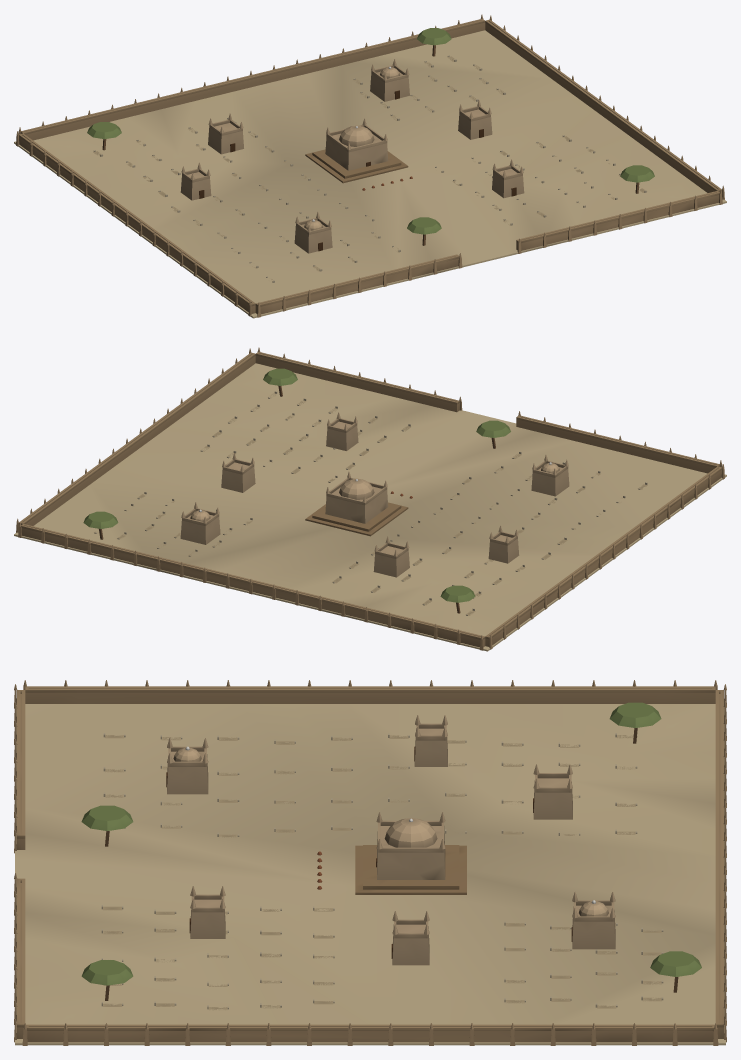
Rendered from saints-cemetery.glb.
3 views of the same model, one above another, from view 1: azimuth 30°, elevation 25°; view 2: azimuth 150°, elevation 25°; view 3: azimuth 270°, elevation 25° (orthographic). The views are drawn at different scales.
Visible parts, largest first — view 1: p0_ground, p1_walls, p2_tombs; view 2: p0_ground, p1_walls, p2_tombs; view 3: p0_ground, p1_walls, p2_tombs.
Boxes of the visible parts, x1=… form: p0_ground: x1=14, y1=30, x2=726, y2=318; p1_walls: x1=16, y1=14, x2=724, y2=317; p2_tombs: x1=87, y1=28, x2=654, y2=253; p0_ground: x1=14, y1=363, x2=726, y2=651; p1_walls: x1=16, y1=347, x2=724, y2=650; p2_tombs: x1=83, y1=368, x2=569, y2=613; p0_ground: x1=15, y1=704, x2=725, y2=1045; p1_walls: x1=14, y1=680, x2=726, y2=1045; p2_tombs: x1=81, y1=702, x2=701, y2=1000.
Size of the model in its own units: 80.26 by 5.98 by 70.21.
